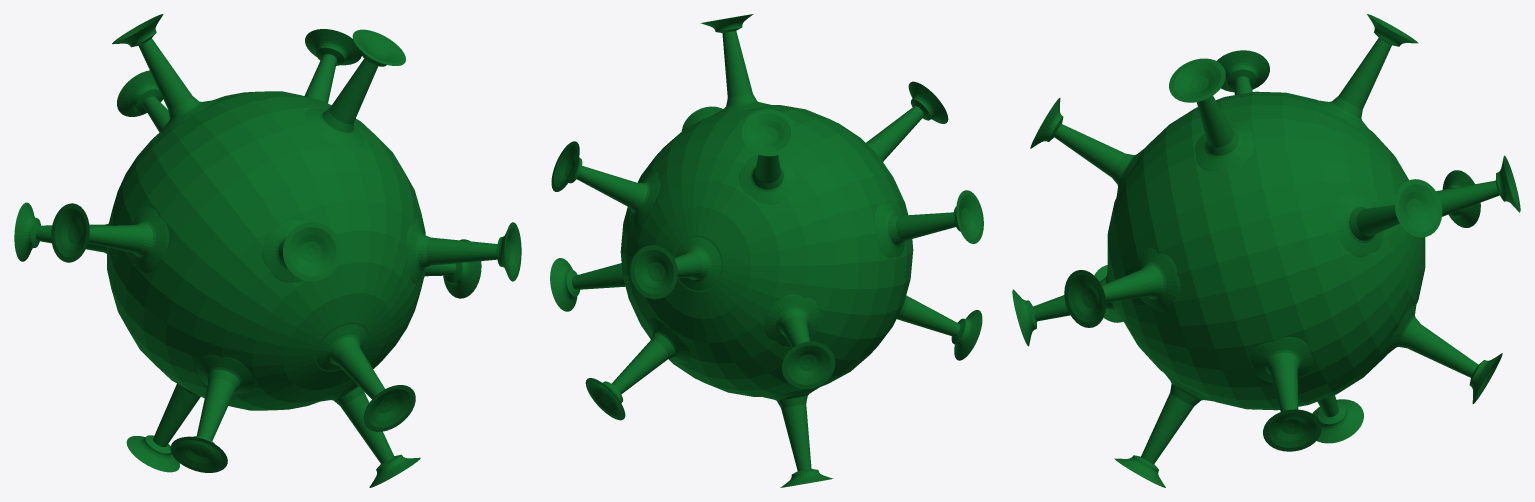
File: Covid19.glb
3 renders of one model, left to right at view 1: azimuth 30°, elevation 25°; view 2: azimuth 150°, elevation 25°; view 3: azimuth 270°, elevation 25°, orthographic. The views are drawn at different scales.
Visible parts, largest first — view 1: node_id5; view 2: node_id5; view 3: node_id5.
Boxes of the visible parts, box(x1,y1,x2,y2) form: node_id5: box(14, 14, 521, 487); node_id5: box(550, 14, 983, 487); node_id5: box(1012, 14, 1520, 487).
Size of the model in its own units: 0.3853 by 0.3738 by 0.3908.
Materials: 1 (1 with a texture image).
